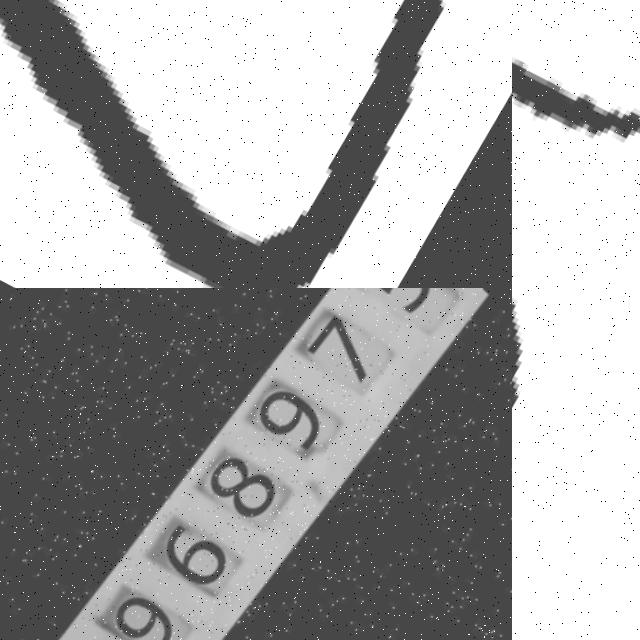5: (323, 288, 467, 352)
6: (127, 496, 265, 623)
7: (275, 294, 408, 417)
8: (176, 430, 309, 552)
9: (222, 361, 358, 487), (81, 567, 208, 640)
I: (512, 57, 640, 147)
L: (0, 0, 512, 288)
P: (512, 288, 640, 640)
